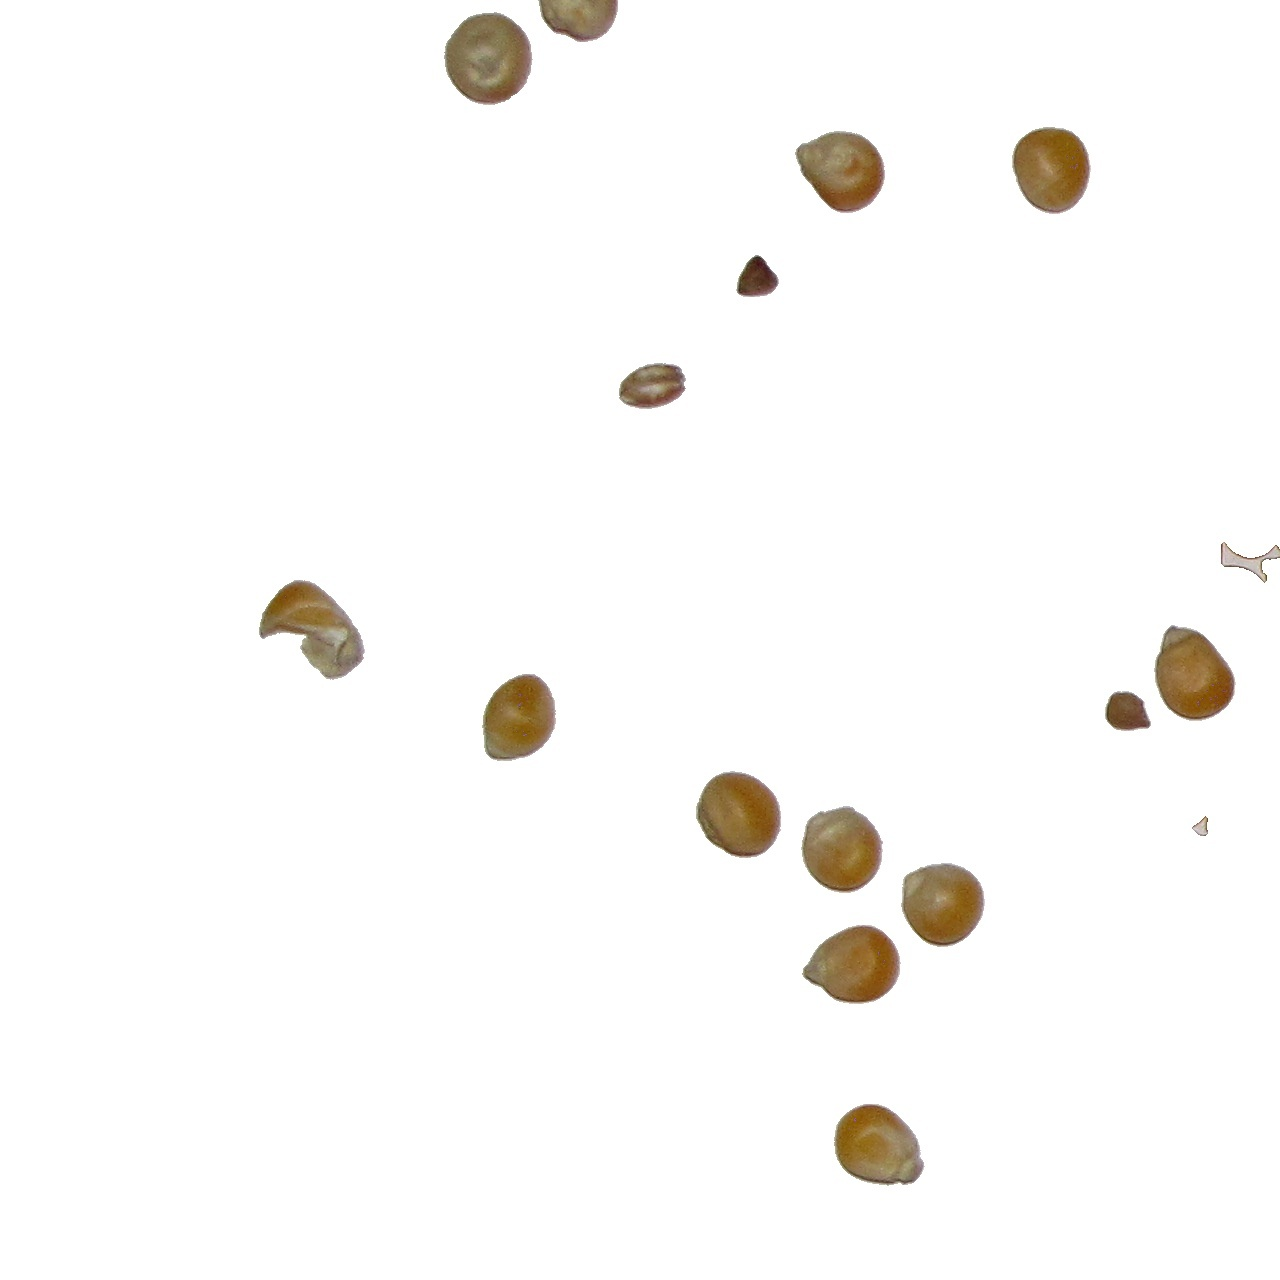buckwheat: (735, 254, 779, 298), (1191, 815, 1208, 837)
dill: (1214, 542, 1280, 584)
mais: (258, 579, 366, 681), (443, 11, 535, 105), (801, 924, 903, 1005), (1153, 624, 1237, 722), (794, 130, 886, 215), (833, 1103, 926, 1187), (695, 770, 782, 859), (799, 805, 884, 894), (900, 862, 986, 948), (1012, 125, 1092, 215), (481, 673, 557, 762)
other: (626, 362, 687, 411), (1104, 690, 1152, 731)
